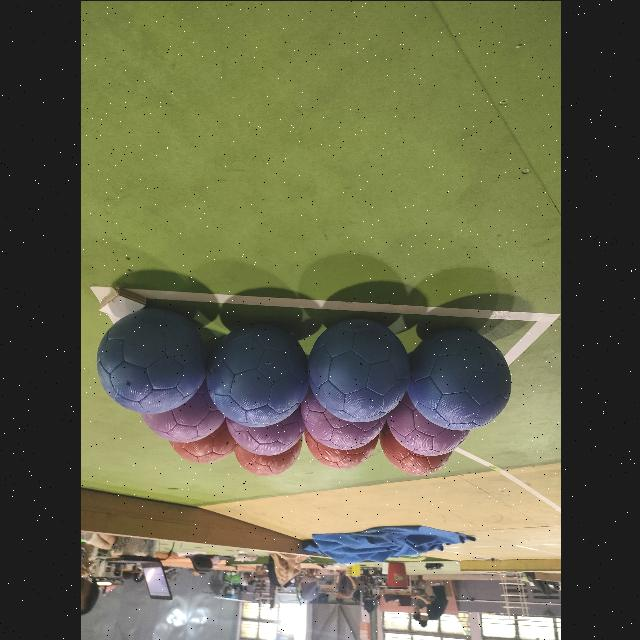B: (96, 308, 206, 412), (307, 318, 408, 422), (206, 324, 308, 426), (408, 329, 510, 429)
P: (384, 391, 470, 455), (300, 388, 384, 450), (141, 380, 223, 442), (226, 404, 304, 456)
R: (380, 424, 450, 474), (169, 419, 235, 463), (303, 430, 377, 468), (233, 440, 301, 476)
S: (494, 569, 536, 621)
